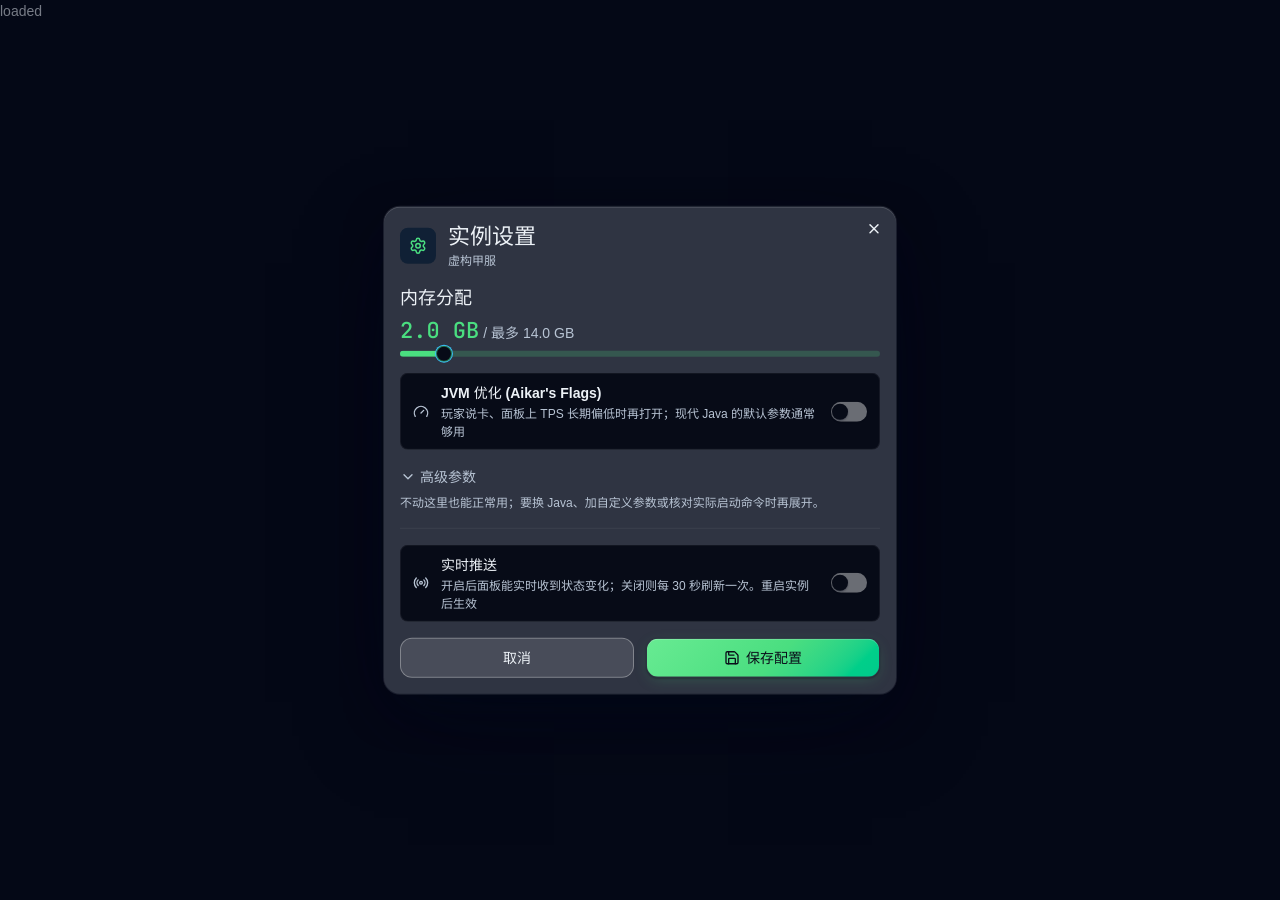
it: InstanceSettingsDialog › Aikar 开关默认关闭；开启后生成行进入启动命令，再关闭即移除
This screenshot has width=1280, height=900.
Click the button "高级参数" at (438, 477), box [400,466,476,488]
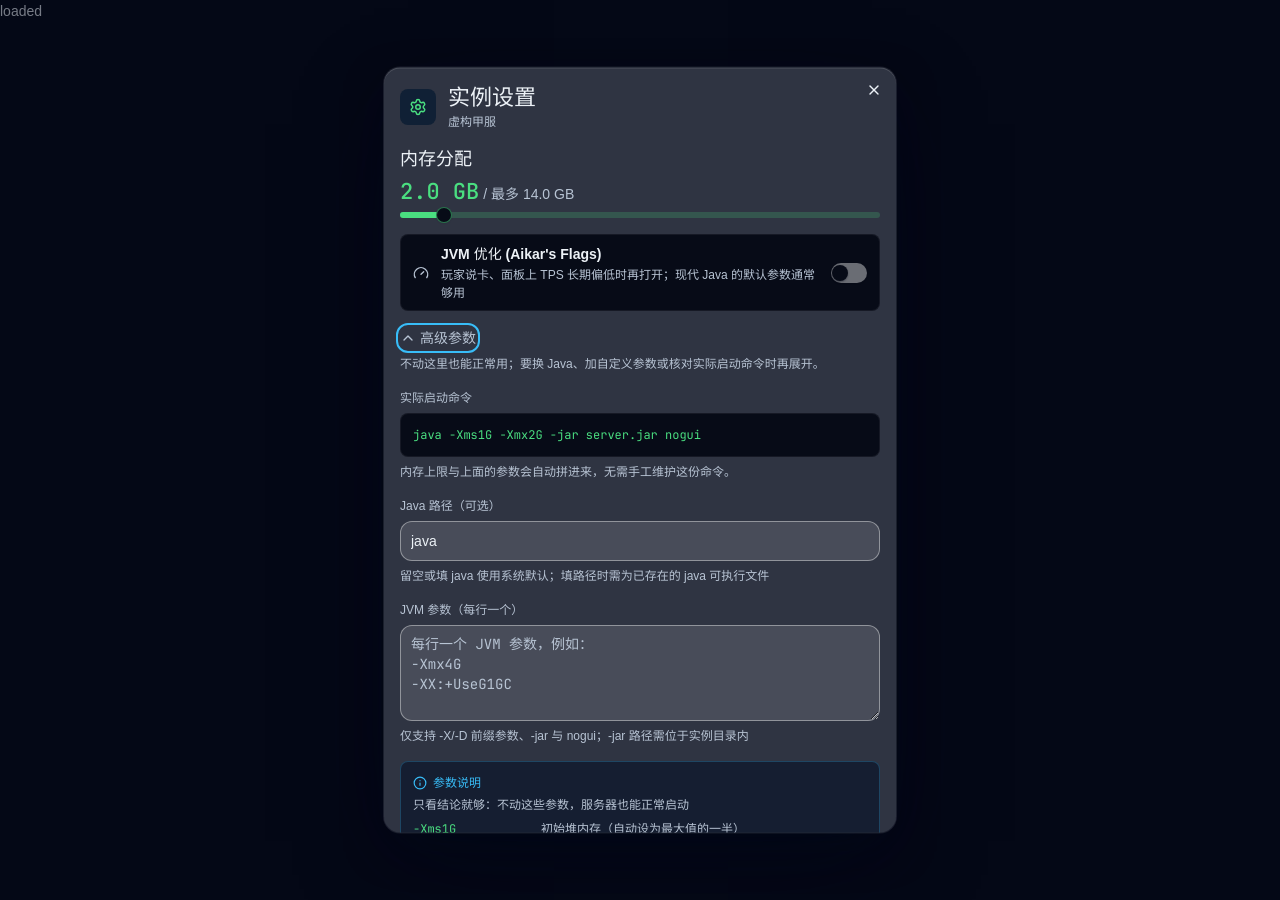
Click the switch named "JVM 优化 (Aikar's Flags)" at (849, 272), box [831,262,867,282]
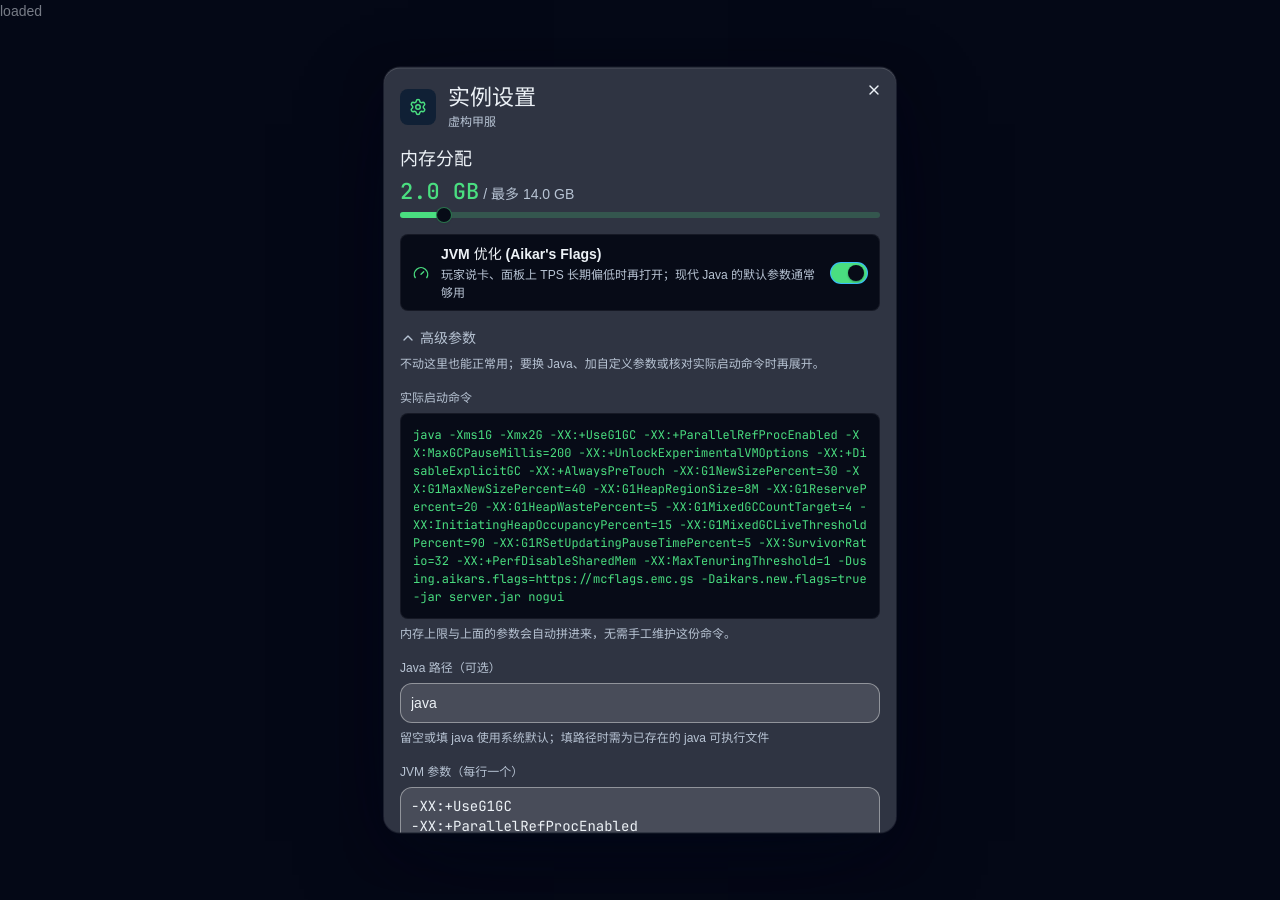
Now the text "java -Xms1G -Xmx2G" shows "-XX:SurvivorRatio=32", box [413,427,874,605]
Click the switch named "JVM 优化 (Aikar's Flags)" at (849, 272), box [831,262,867,282]
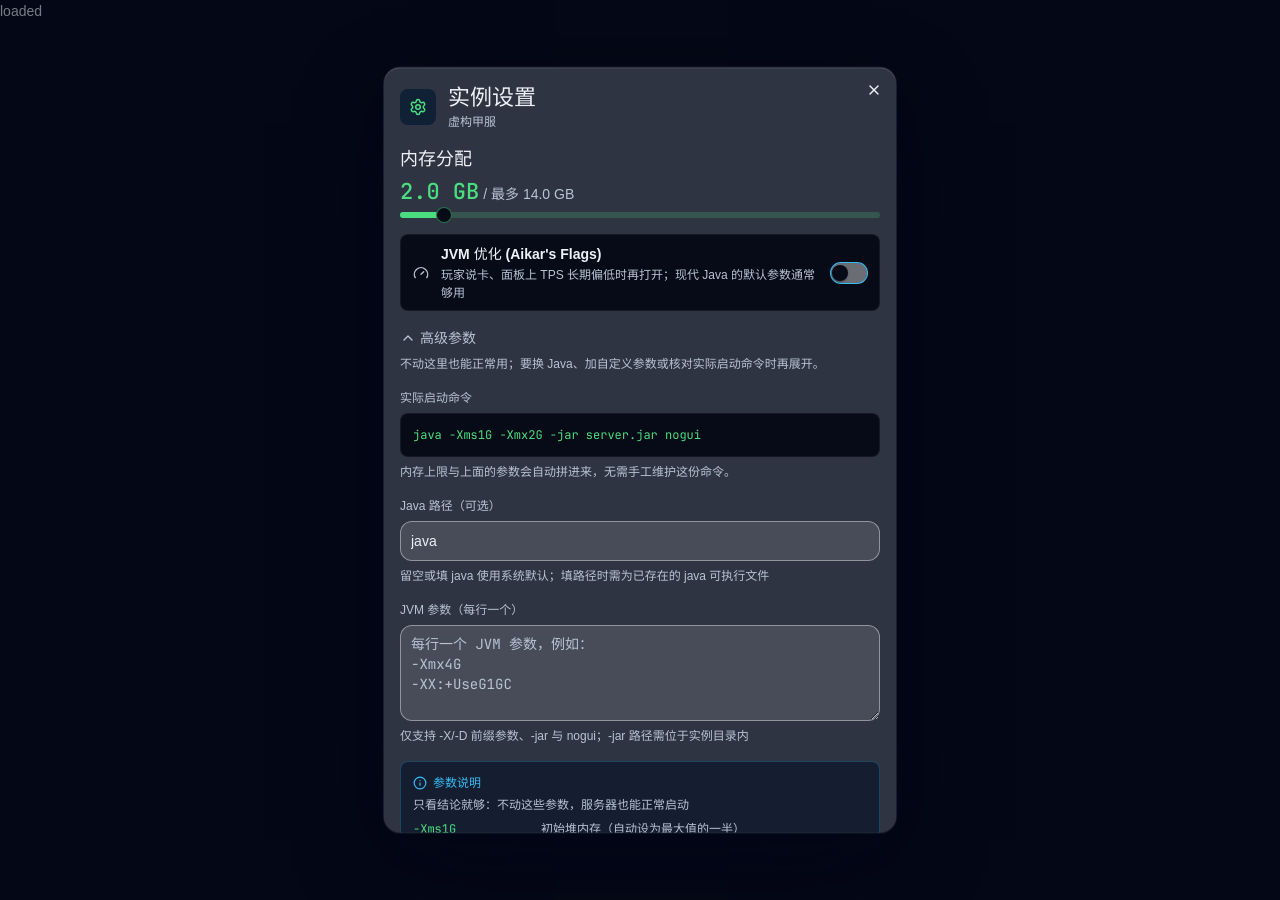
Now the text "java -Xms1G -Xmx2G -jar server.jar nogui" no longer shows "-XX:SurvivorRatio=32", box [400,413,880,457]
Now the text "java -Xms1G -Xmx2G -jar server.jar nogui" no longer shows "-Daikars.new.flags=true", box [400,413,880,457]
